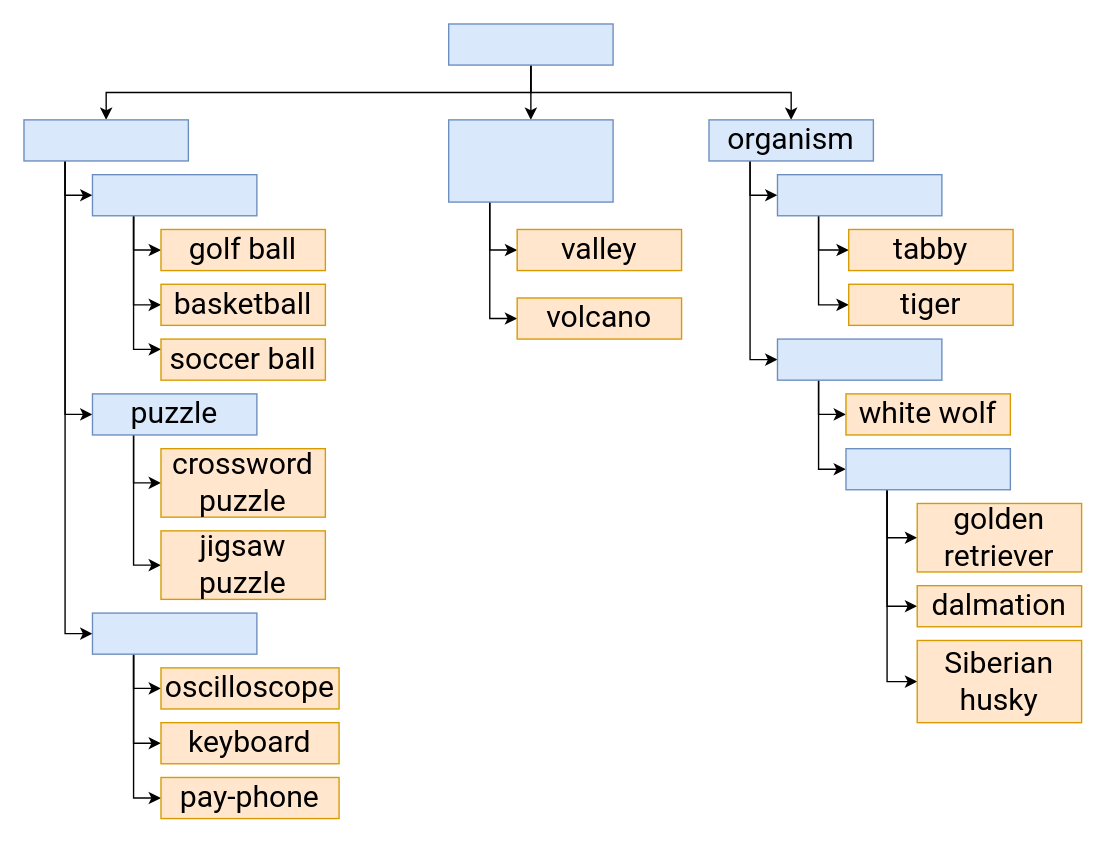
Image size: 1106x843. Some labels were removed from this diagram. The shapes that lost their labels are listed below. From the top down, each one's box as (x1, y1, x2, y2) in pixels, then its label:
(447, 23, 613, 65): entity
(23, 119, 188, 161): equipment
(447, 119, 613, 202): geological formation
(91, 173, 257, 216): ball
(776, 173, 942, 216): feline
(776, 338, 942, 380): canine
(845, 447, 1010, 490): dog
(91, 612, 257, 654): electronics
